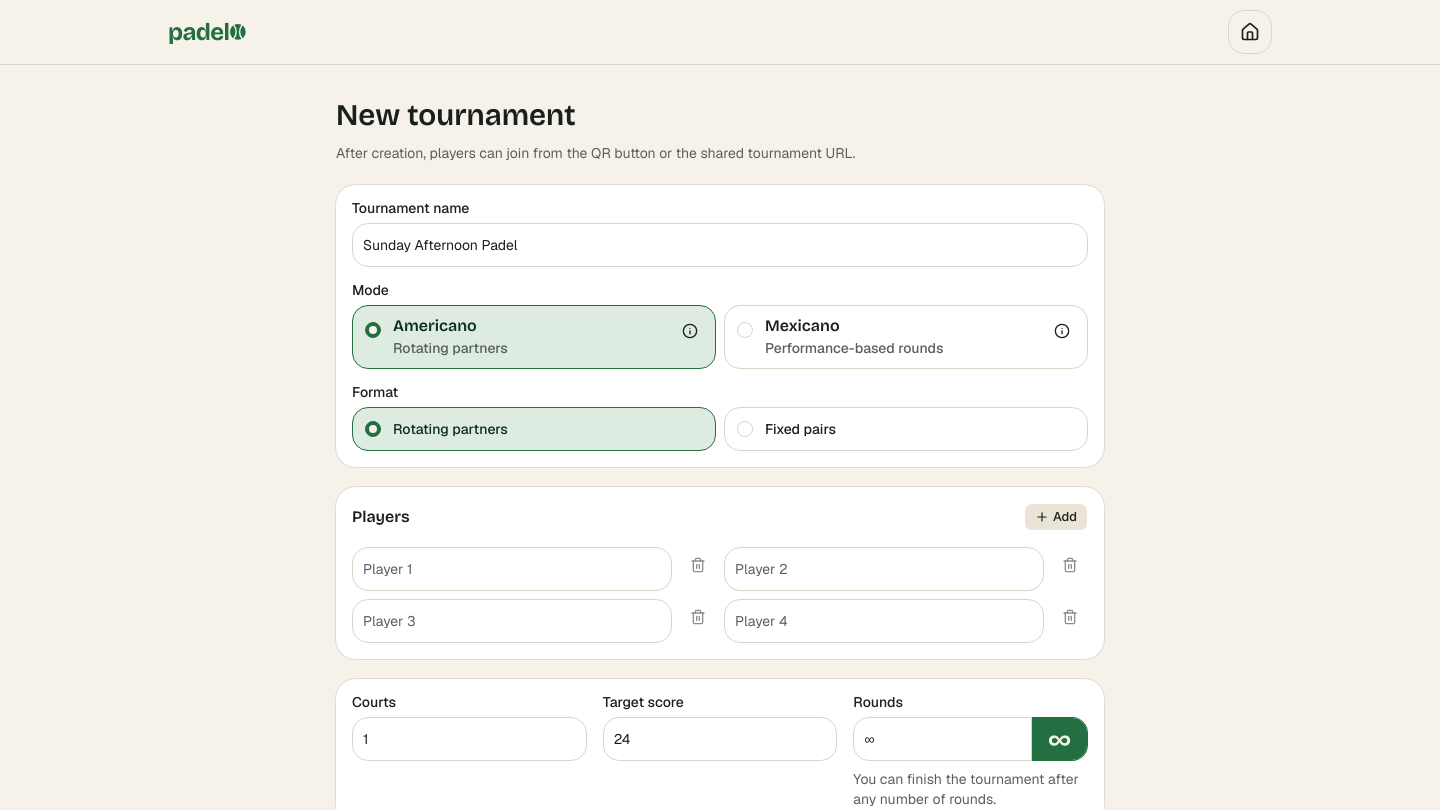
Test case: NewTournamentPage › defaults round count to infinite and toggles back to fixed rounds
Expected: the field labelled "Rounds" holds "∞", [853,717,1032,761]
Expected: the text "You can finish the tournament after any number of rounds." is shown, [853,769,1088,809]
Click the button named "Infinite rounds": coordinates (1060, 739) [1032,717,1088,761]
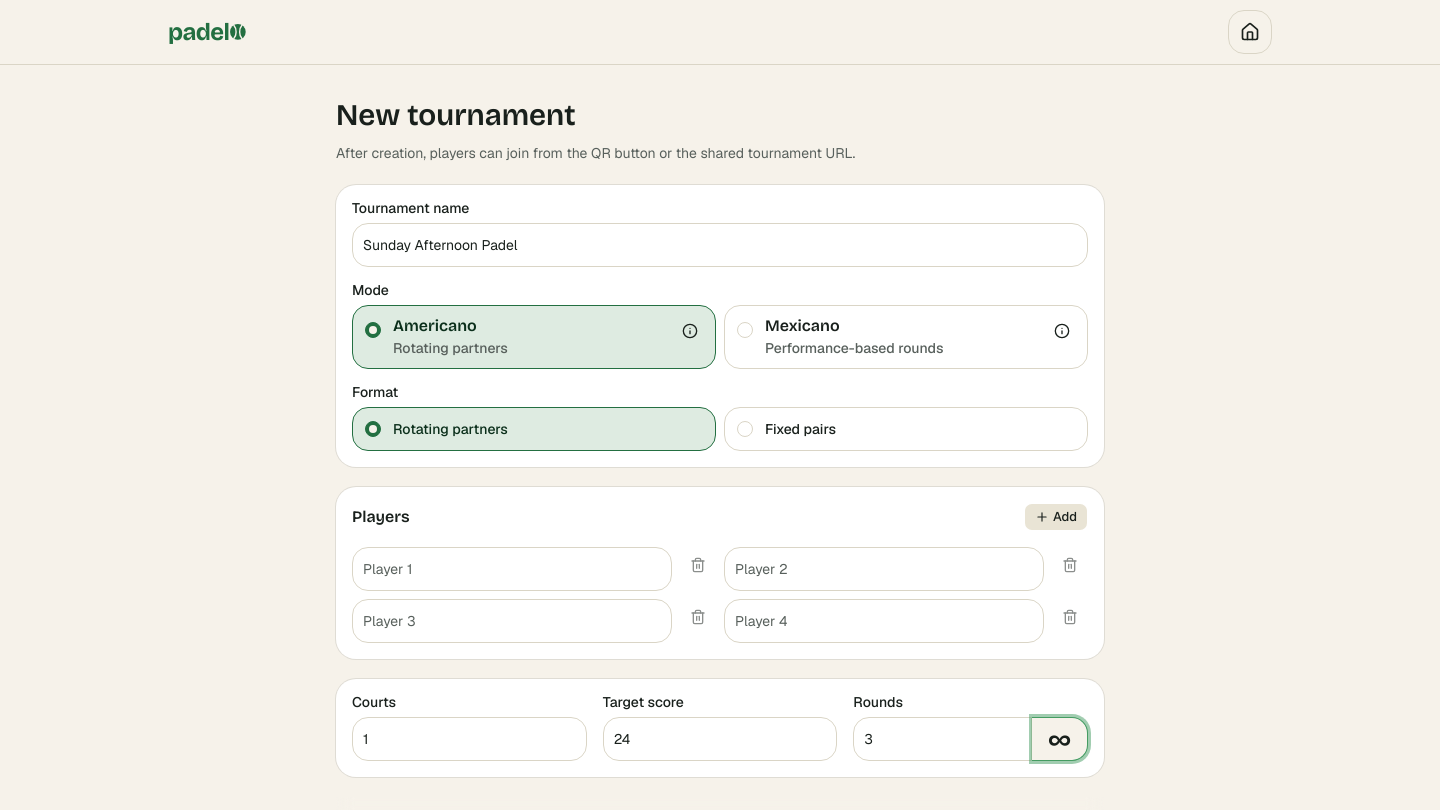
Result: the number field labelled "Rounds" holds "3" at [853,717,1032,761]
